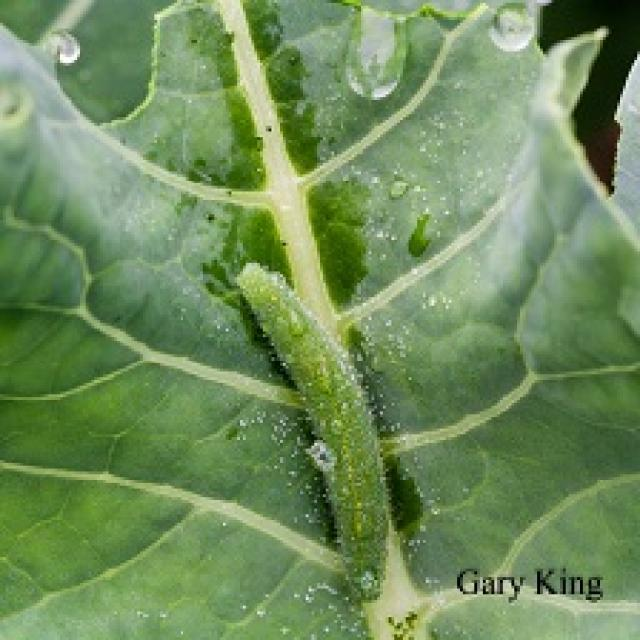Cabbage-worm: (230, 240, 397, 623)
